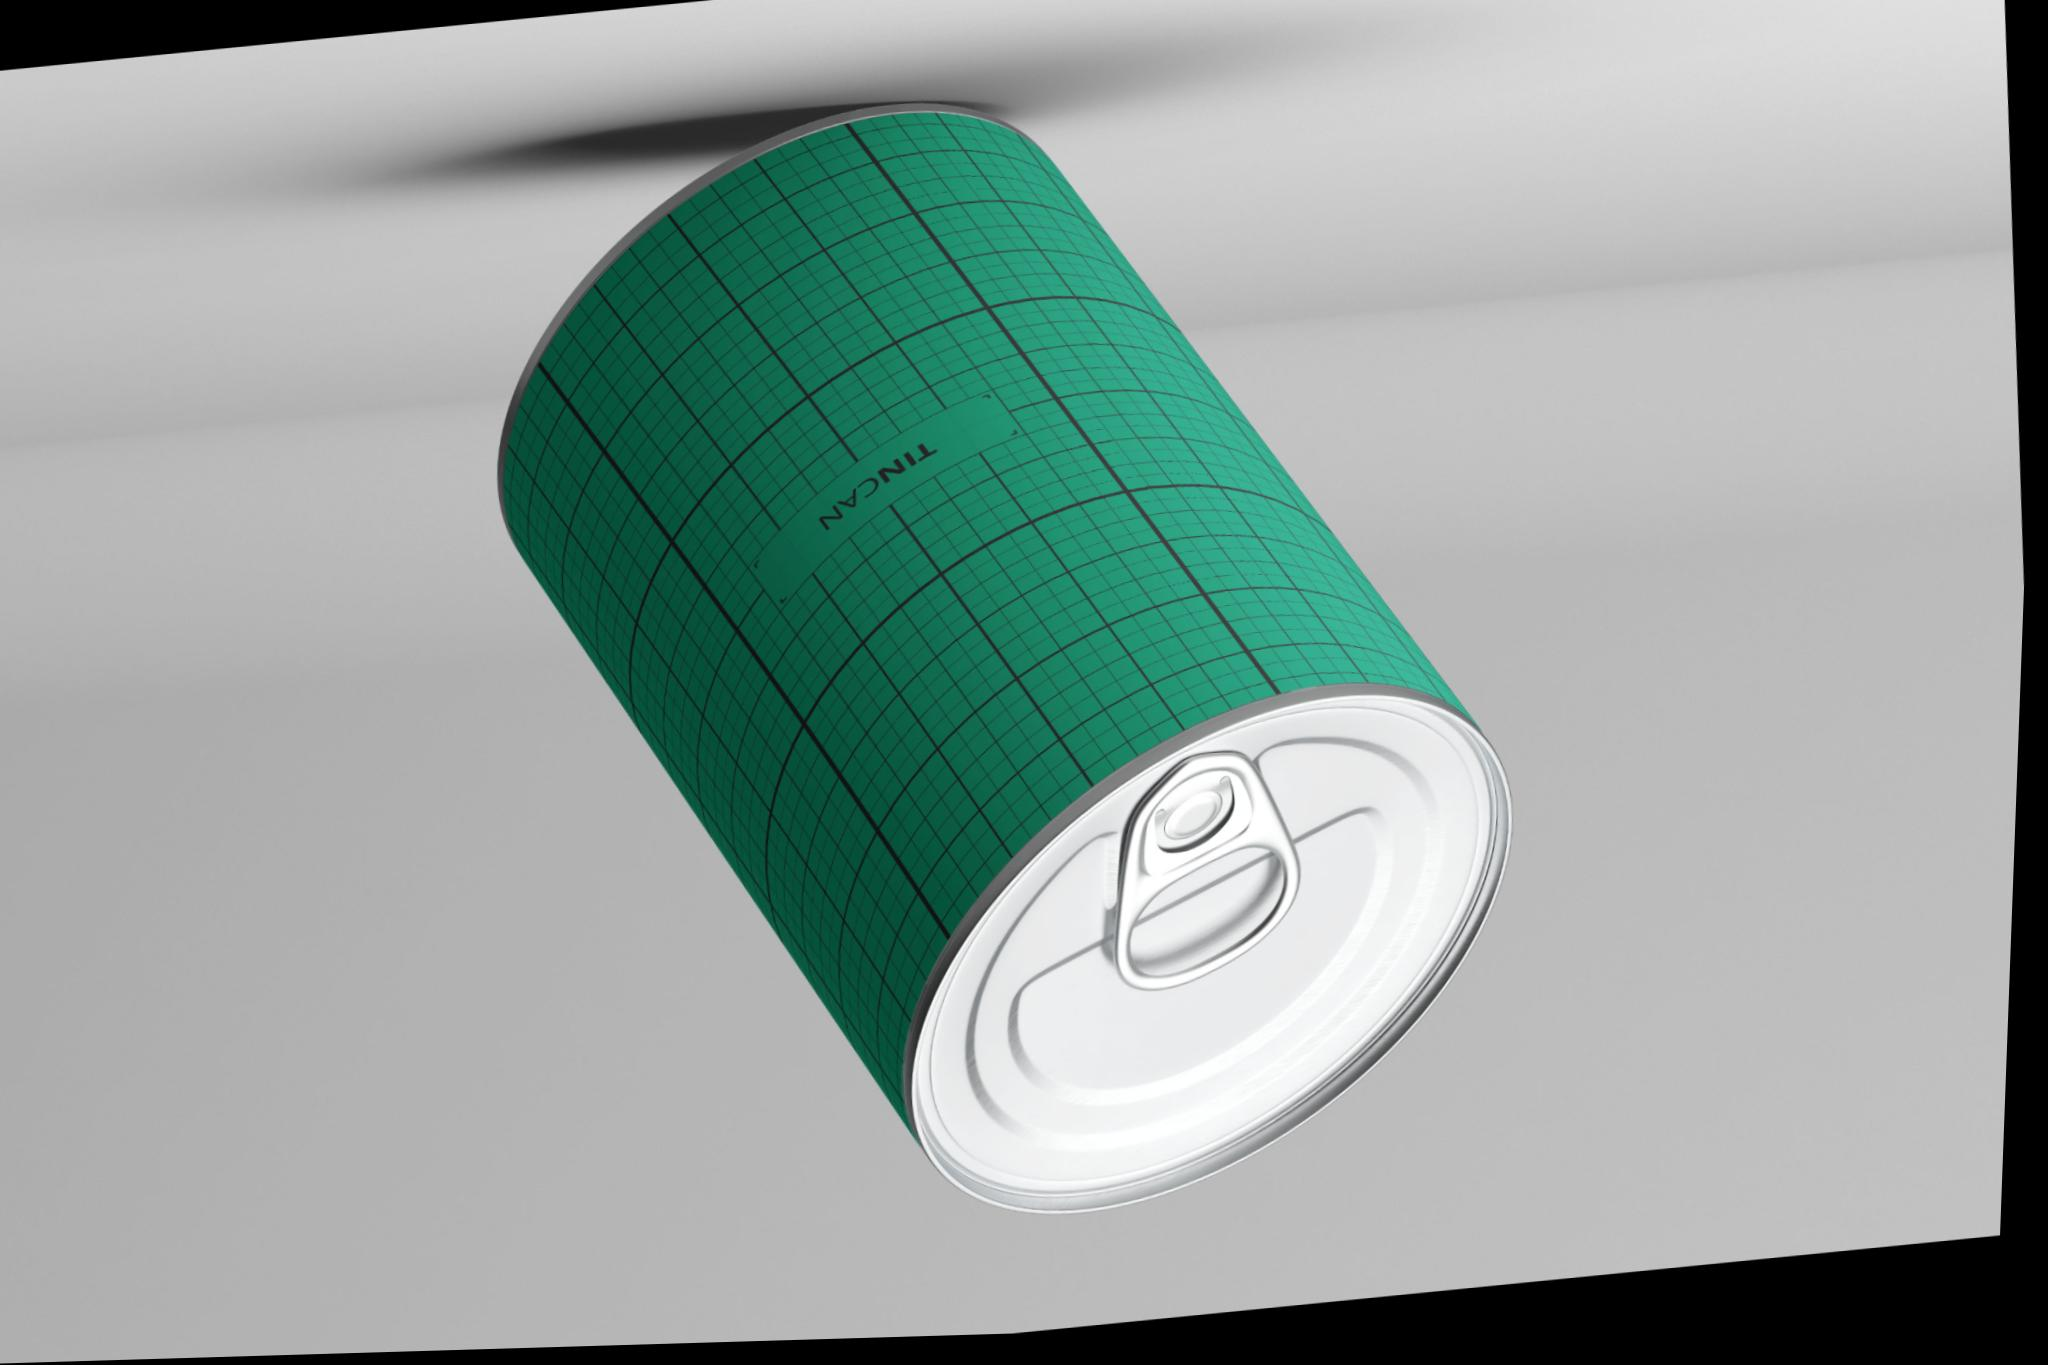metal: (501, 110, 1507, 1207)
